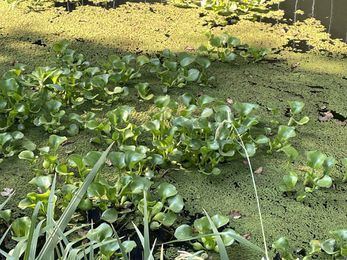water_hyacinth: (1, 34, 346, 229)
